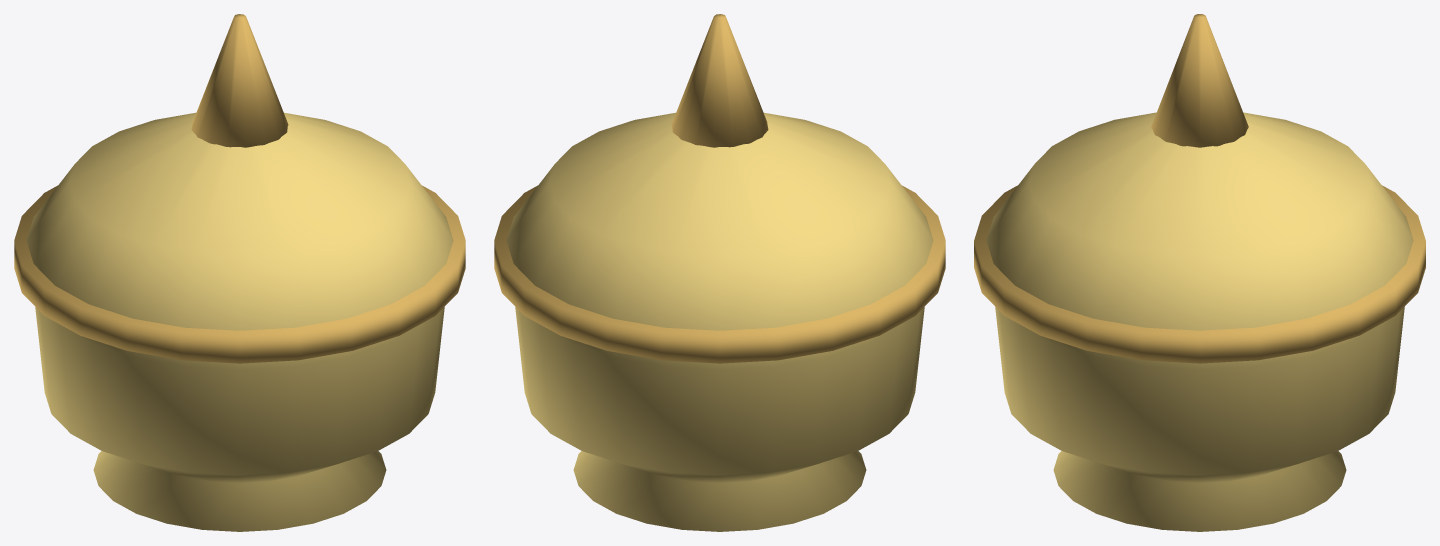
Rendered from royal-betel-box.glb.
3 renders of one model, left to right at view 1: azimuth 30°, elevation 25°; view 2: azimuth 150°, elevation 25°; view 3: azimuth 270°, elevation 25°, orthographic.
Visible parts, largest first — view 1: betel_body, betel_gold; view 2: betel_body, betel_gold; view 3: betel_body, betel_gold.
Boxes of the visible parts, x1=… form: betel_body: x1=26, y1=112, x2=453, y2=531; betel_gold: x1=14, y1=14, x2=465, y2=363; betel_body: x1=506, y1=112, x2=933, y2=531; betel_gold: x1=494, y1=14, x2=945, y2=363; betel_body: x1=986, y1=112, x2=1413, y2=531; betel_gold: x1=974, y1=14, x2=1425, y2=363.
Size of the model in its own units: 0.74 by 0.82 by 0.74.
